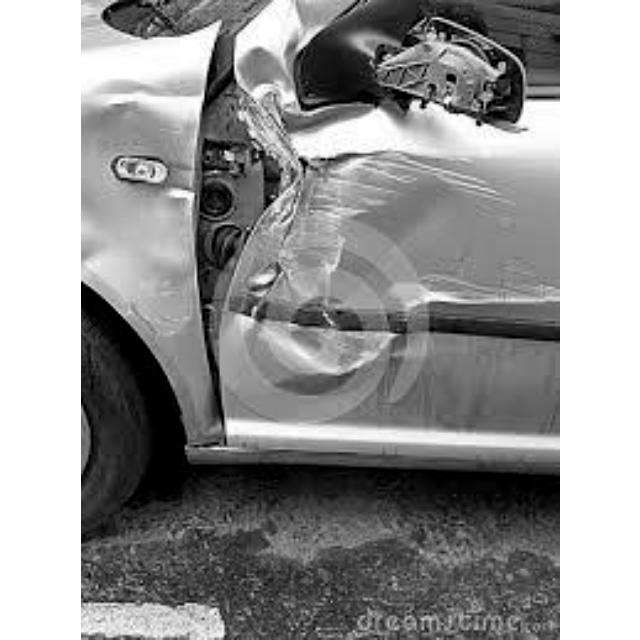Sidemirror-Damage: (360, 17, 531, 128)
doorouter-dent: (209, 78, 495, 427)
